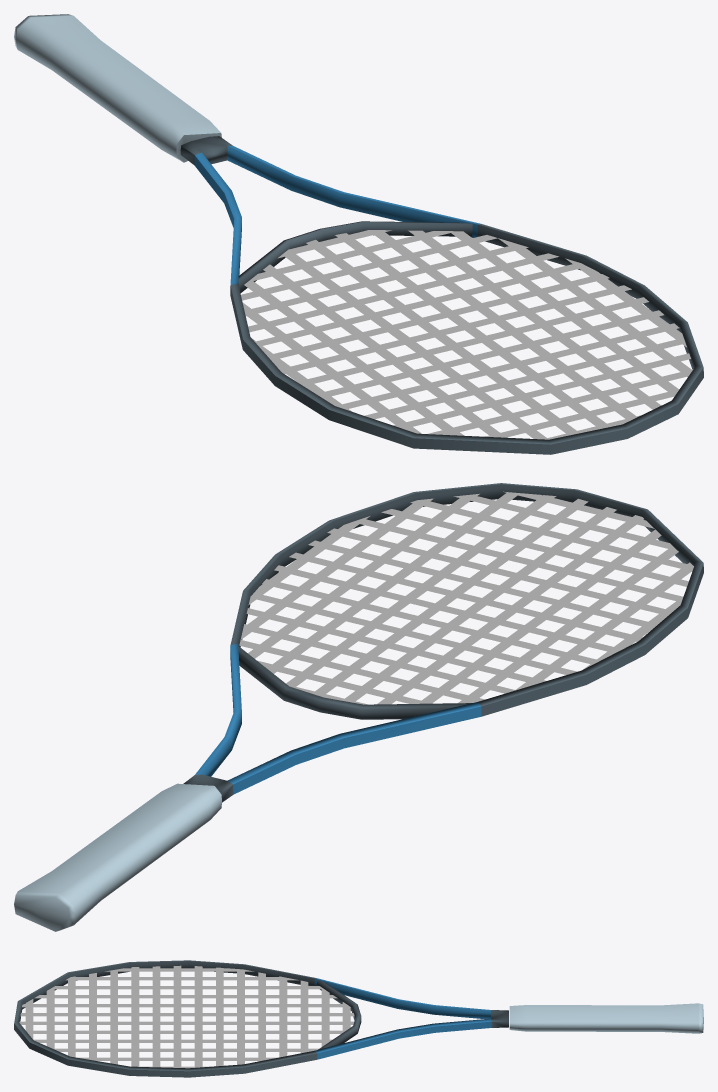
Rendered from human-sports-tennis-racket_v1.glb.
3 renders of one model, top to bottom at view 1: azimuth 30°, elevation 25°; view 2: azimuth 150°, elevation 25°; view 3: azimuth 270°, elevation 25°, orthographic. The views are drawn at different scales.
Visible parts, largest first — view 1: Tennis Racket, Tennis Racket.001; view 2: Tennis Racket, Tennis Racket.001; view 3: Tennis Racket, Tennis Racket.001.
Boxes of the visible parts, x1,y1,x2,y2 form: Tennis Racket: (241,230,693,439); Tennis Racket.001: (14,14,703,454); Tennis Racket: (239,491,693,704); Tennis Racket.001: (14,483,703,931); Tennis Racket: (19,965,354,1068); Tennis Racket.001: (14,960,703,1077).
Size of the model in its own units: 0.2591 by 0.0249 by 0.68.
